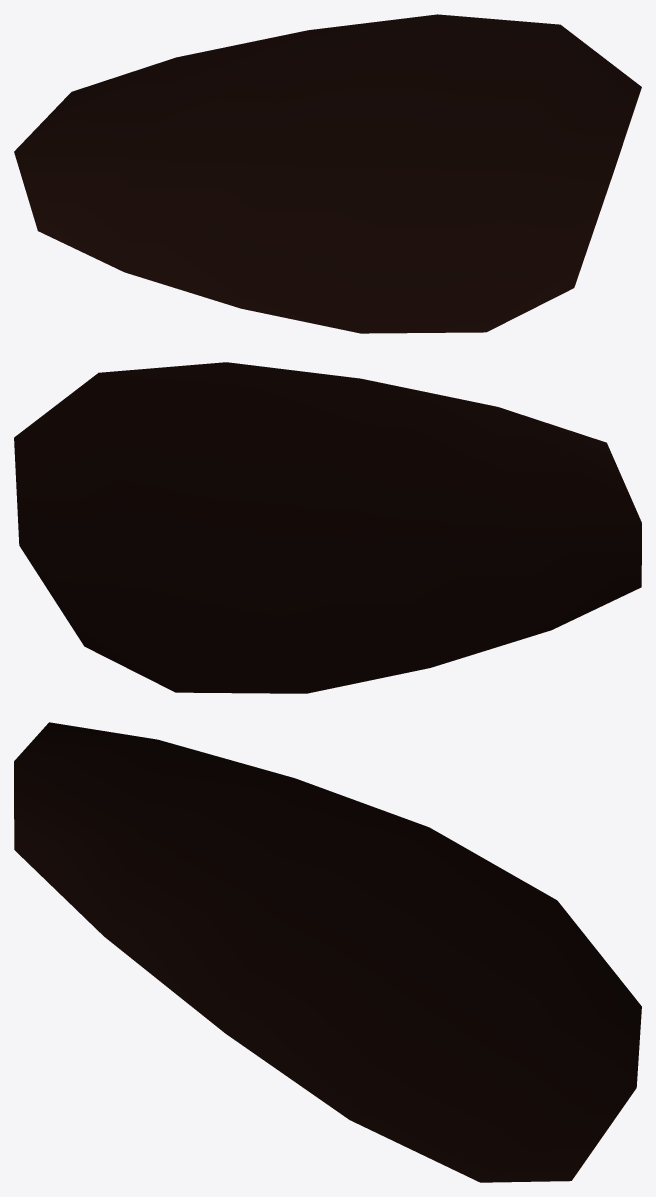
File: finch_feather_flight_secondary_032.obj
The picture shows the model from 3 angles, top to bottom: view 1: azimuth 30°, elevation 25°; view 2: azimuth 150°, elevation 25°; view 3: azimuth 330°, elevation 25°; orthographic projection. The views are drawn at different scales.
Visible parts, largest first — view 1: feather_flight_secondary_032; view 2: feather_flight_secondary_032; view 3: feather_flight_secondary_032.
Boxes of the visible parts, x1,y1,x2,y2 form: feather_flight_secondary_032: [14, 14, 641, 333]; feather_flight_secondary_032: [14, 362, 641, 693]; feather_flight_secondary_032: [14, 722, 641, 1182].
Bounding box in the file's own units: 0.0101 × 0.0055 × 0.000336.
